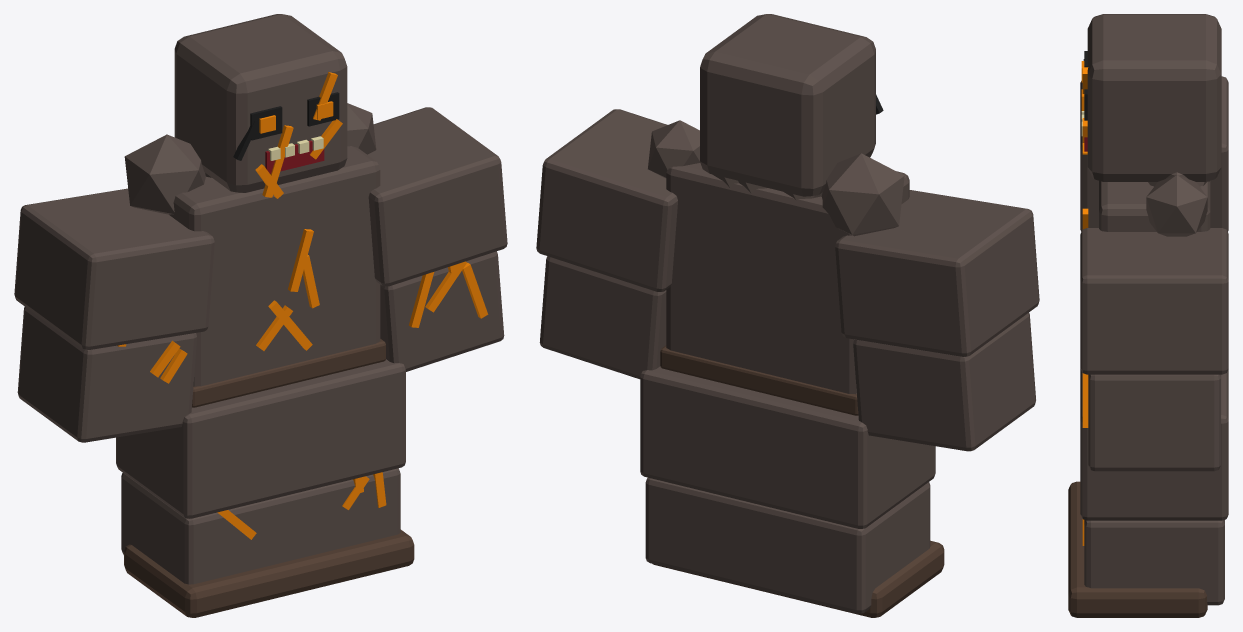
File: golem_lava.glb
3 renders of one model, left to right at view 1: azimuth 30°, elevation 25°; view 2: azimuth 150°, elevation 25°; view 3: azimuth 270°, elevation 25°, orthographic. The views are drawn at different scales.
Visible parts, largest first — view 1: Torso, LeftArm, LeftLeg, RightArm, Head, RightLeg; view 2: Torso, LeftArm, LeftLeg, RightArm, Head, RightLeg; view 3: RightArm, RightLeg, Head, Torso, LeftArm, LeftLeg.
Boxes of the visible parts, left/top/right/bottom form: Torso: left=124, top=103, right=385, bottom=407; LeftArm: left=14, top=188, right=214, bottom=442; LeftLeg: left=116, top=387, right=314, bottom=617; RightArm: left=367, top=107, right=507, bottom=371; Head: left=174, top=14, right=347, bottom=198; RightLeg: left=279, top=359, right=414, bottom=594; Torso: left=648, top=120, right=909, bottom=415; LeftArm: left=835, top=190, right=1039, bottom=451; LeftLeg: left=740, top=395, right=944, bottom=617; RightArm: left=536, top=109, right=677, bottom=379; Head: left=700, top=14, right=883, bottom=196; RightLeg: left=640, top=366, right=769, bottom=589; RightArm: left=1080, top=228, right=1228, bottom=471; RightLeg: left=1068, top=369, right=1228, bottom=617; Head: left=1081, top=14, right=1221, bottom=181; Torso: left=1082, top=172, right=1210, bottom=236; LeftArm: left=1080, top=76, right=1228, bottom=231; LeftLeg: left=1068, top=481, right=1082, bottom=535.
Bounding box in the file's own units: 8.06 × 9.4 × 2.59.
1 material, 1 textured.
